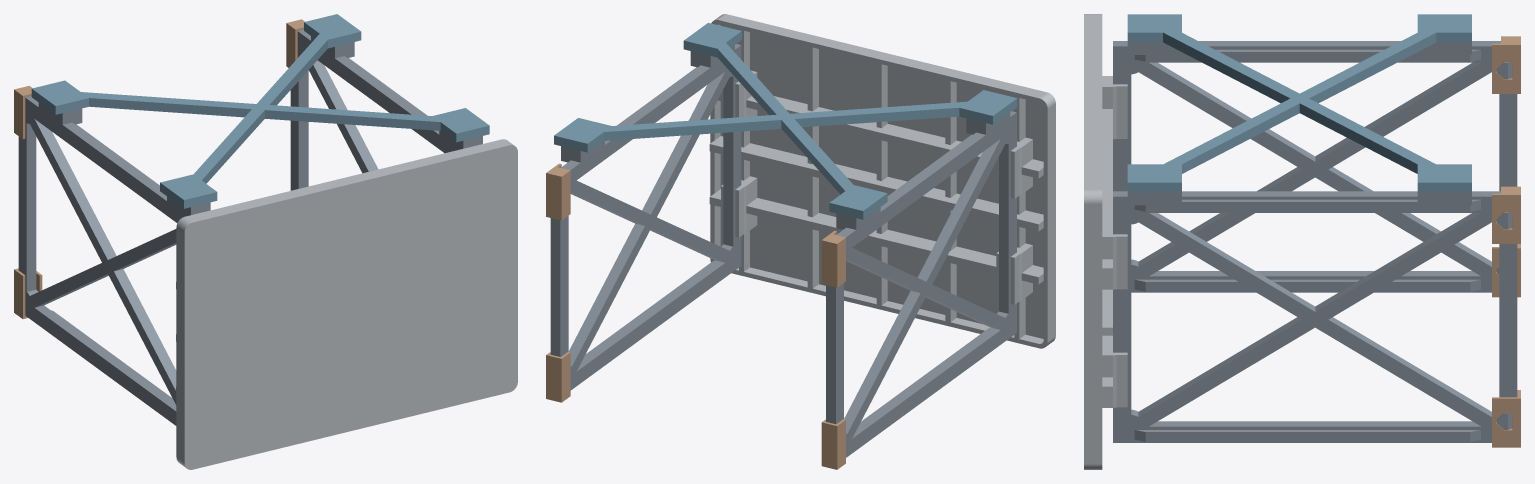
Rendered from V7_assembly_REFERENCE.glb.
3 renders of one model, left to right at view 1: azimuth 30°, elevation 25°; view 2: azimuth 150°, elevation 25°; view 3: azimuth 270°, elevation 25°, orthographic. The views are drawn at different scales.
Parts seen in each view (by area): view 1: top, support_L, rear_brace, support_R, foot_L_front, foot_L_rear, foot_R_rear; view 2: top, support_L, support_R, rear_brace, foot_R_rear, foot_L_rear, foot_R_front, foot_L_front; view 3: support_R, support_L, rear_brace, top, foot_L_rear, foot_R_rear, foot_R_front, foot_L_front.
Boxes of the visible parts, x1=… form: top: x1=176, y1=139, x2=517, y2=469; support_L: x1=18, y1=96, x2=210, y2=425; rear_brace: x1=31, y1=14, x2=489, y2=208; support_R: x1=290, y1=29, x2=482, y2=190; foot_L_front: x1=14, y1=268, x2=42, y2=318; foot_L_rear: x1=14, y1=85, x2=32, y2=138; foot_R_rear: x1=286, y1=19, x2=304, y2=67; top: x1=709, y1=14, x2=1055, y2=348; support_L: x1=826, y1=111, x2=1016, y2=457; support_R: x1=550, y1=44, x2=741, y2=390; rear_brace: x1=554, y1=23, x2=1017, y2=219; foot_R_rear: x1=546, y1=163, x2=570, y2=220; foot_L_rear: x1=821, y1=230, x2=845, y2=287; foot_R_front: x1=546, y1=352, x2=570, y2=402; foot_L_front: x1=821, y1=419, x2=845, y2=469; support_R: x1=1113, y1=191, x2=1517, y2=442; support_L: x1=1113, y1=41, x2=1517, y2=292; rear_brace: x1=1127, y1=14, x2=1471, y2=192; top: x1=1084, y1=14, x2=1127, y2=469; foot_L_rear: x1=1492, y1=36, x2=1520, y2=93; foot_R_rear: x1=1492, y1=186, x2=1520, y2=243; foot_R_front: x1=1492, y1=390, x2=1520, y2=447; foot_L_front: x1=1492, y1=244, x2=1520, y2=297.
Size of the model in its own units: 240 by 174 by 241.
